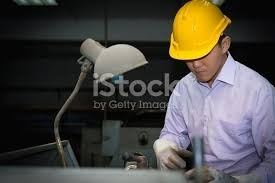helmet: (167, 1, 233, 61)
person with partial safety: (160, 2, 275, 166)
